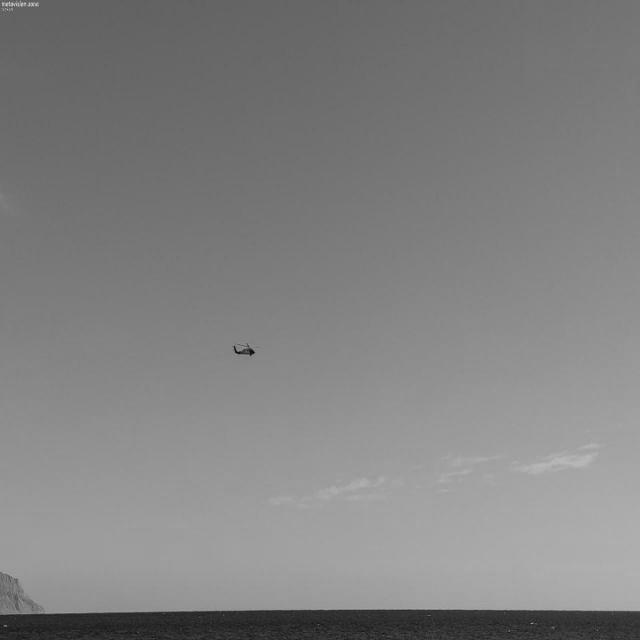helikopter: (213, 325, 274, 383)
